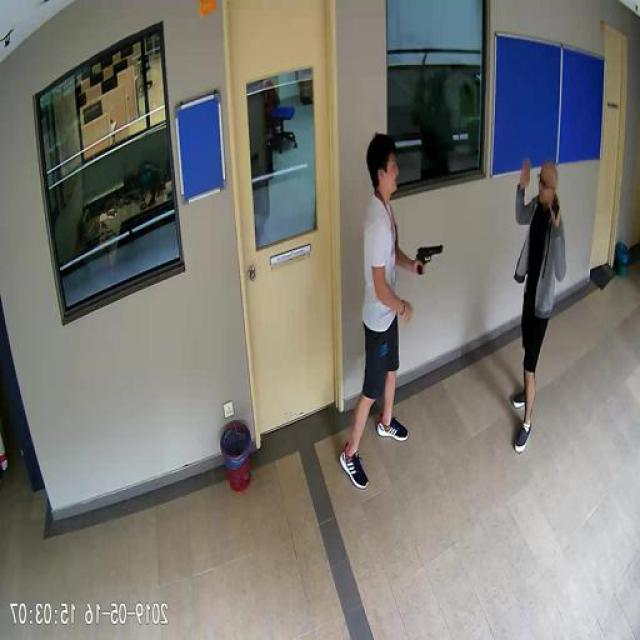Gun: (416, 240, 444, 275)
